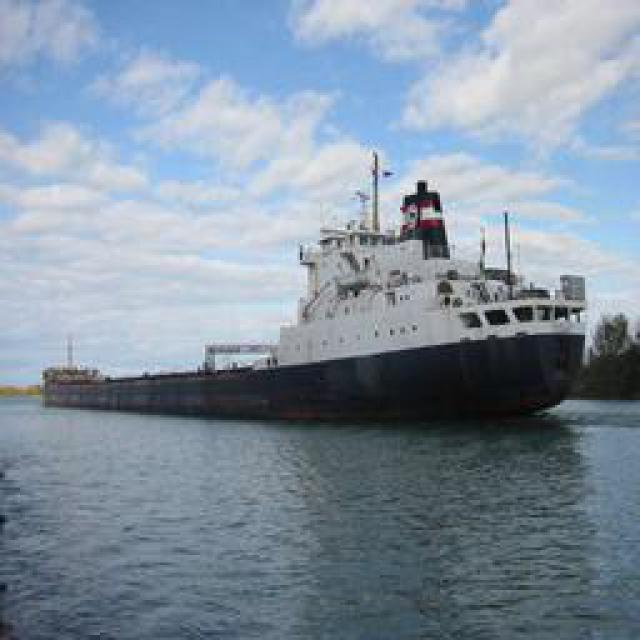Ship: (60, 151, 590, 426)
